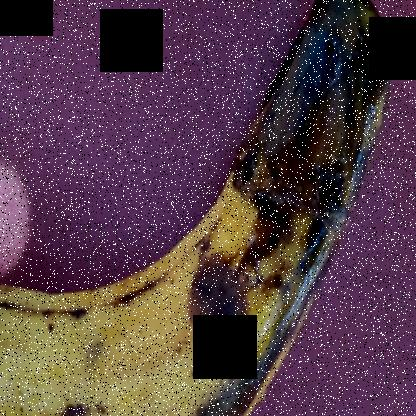rotten: (0, 1, 395, 415)
